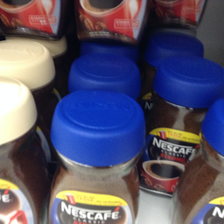chocolate: (49, 86, 144, 223), (145, 57, 222, 197), (1, 76, 45, 222)
